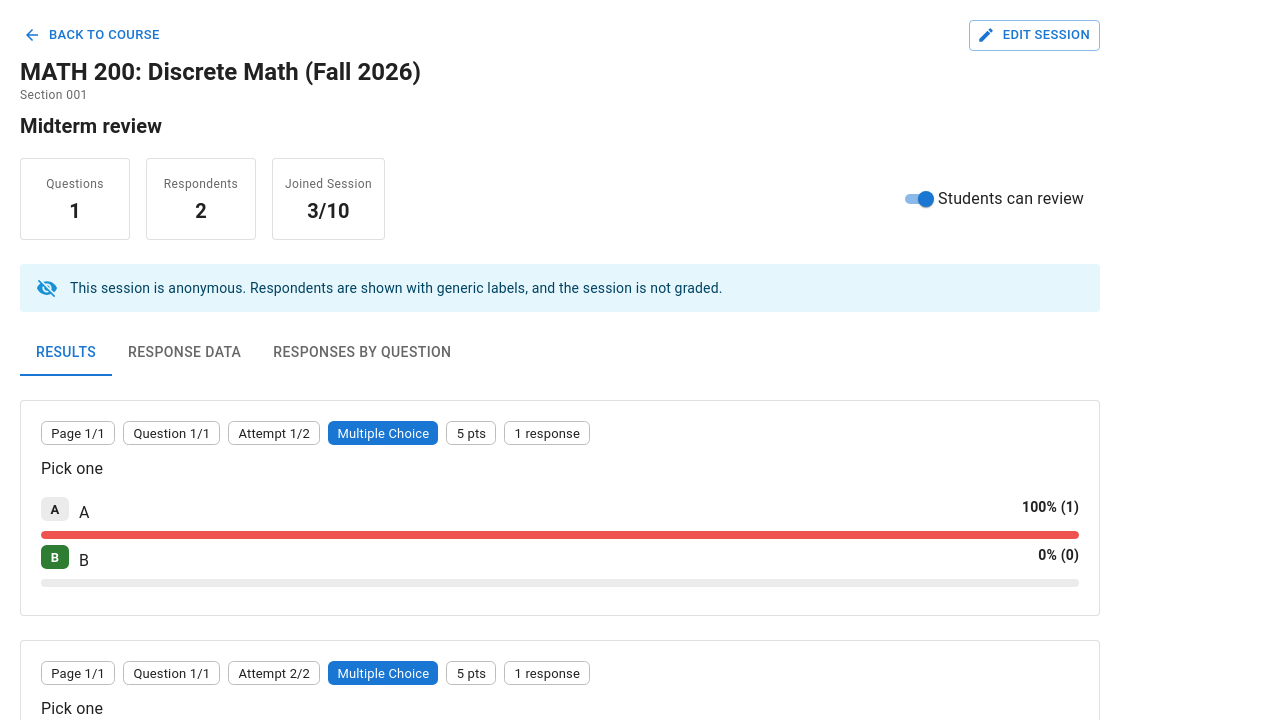
Test: SessionReview › shows anonymous results with respondent labels and a read-only responses tab
Expected: the text "This session is anonymous" is shown, [70,280,722,296]
Expected: the text "Respondents" is shown, [164,177,238,191]
Click the tab "Response Data" at (185, 352), box [112,328,257,376]
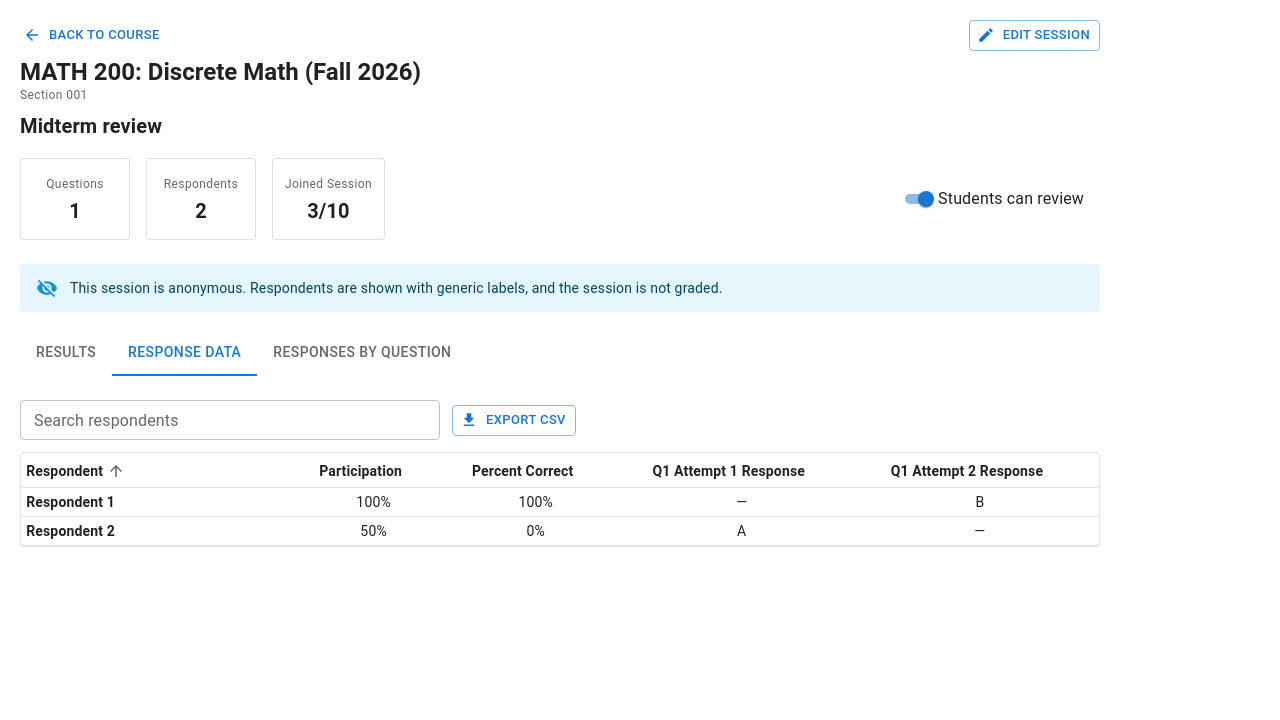
Result: the text "Respondent 1" is shown at [26,494,115,510]
Result: the text "Respondent 2" is shown at [26,523,115,539]
Result: the dropdown labelled "Search respondents" is shown at [26,406,401,434]
Click the tab "Responses by question" at (362, 352), box [257,328,467,376]
(page scrolled)
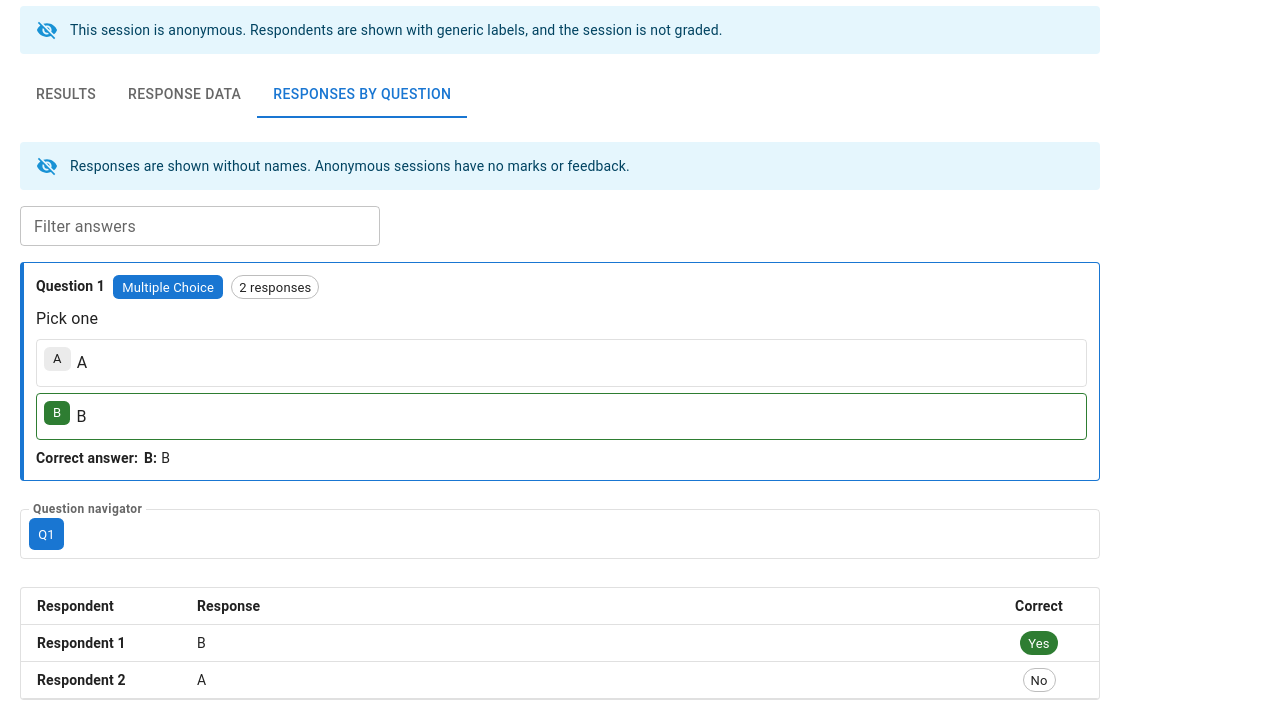
Result: the number of rows is 3 at [21,588,1099,625]; [21,625,1099,662]; [21,662,1099,699]
Result: the text "Respondent 1" is shown at [37,636,126,652]
Result: the text "Yes" is shown at [1028,636,1050,651]
